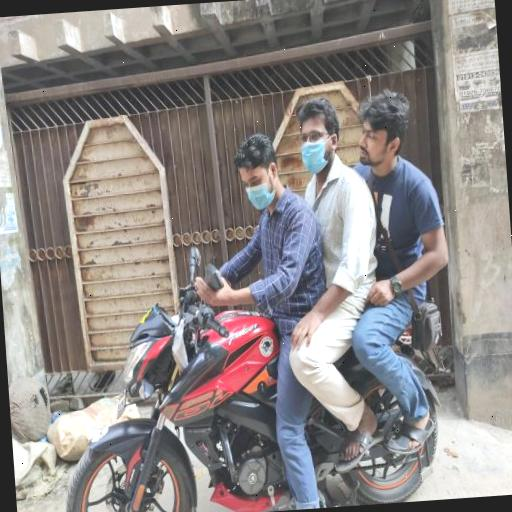no helmet: (221, 116, 300, 230)
triple riding: (34, 61, 466, 512)
